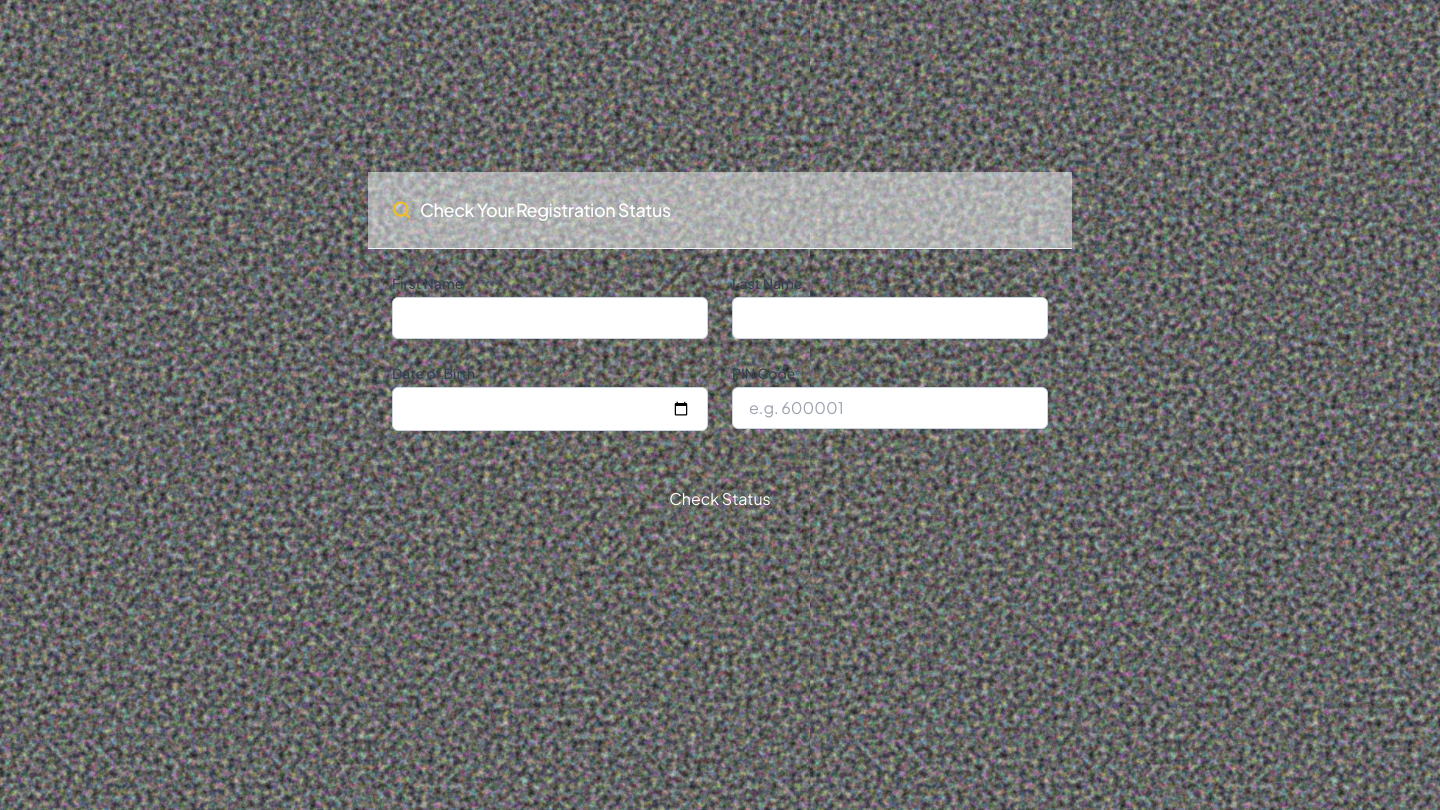
Registration Component › shows validation errors for empty fields
The width and height of the screenshot is (1440, 810).
Click the button "Check Status": (720, 499) [392,479,1048,519]
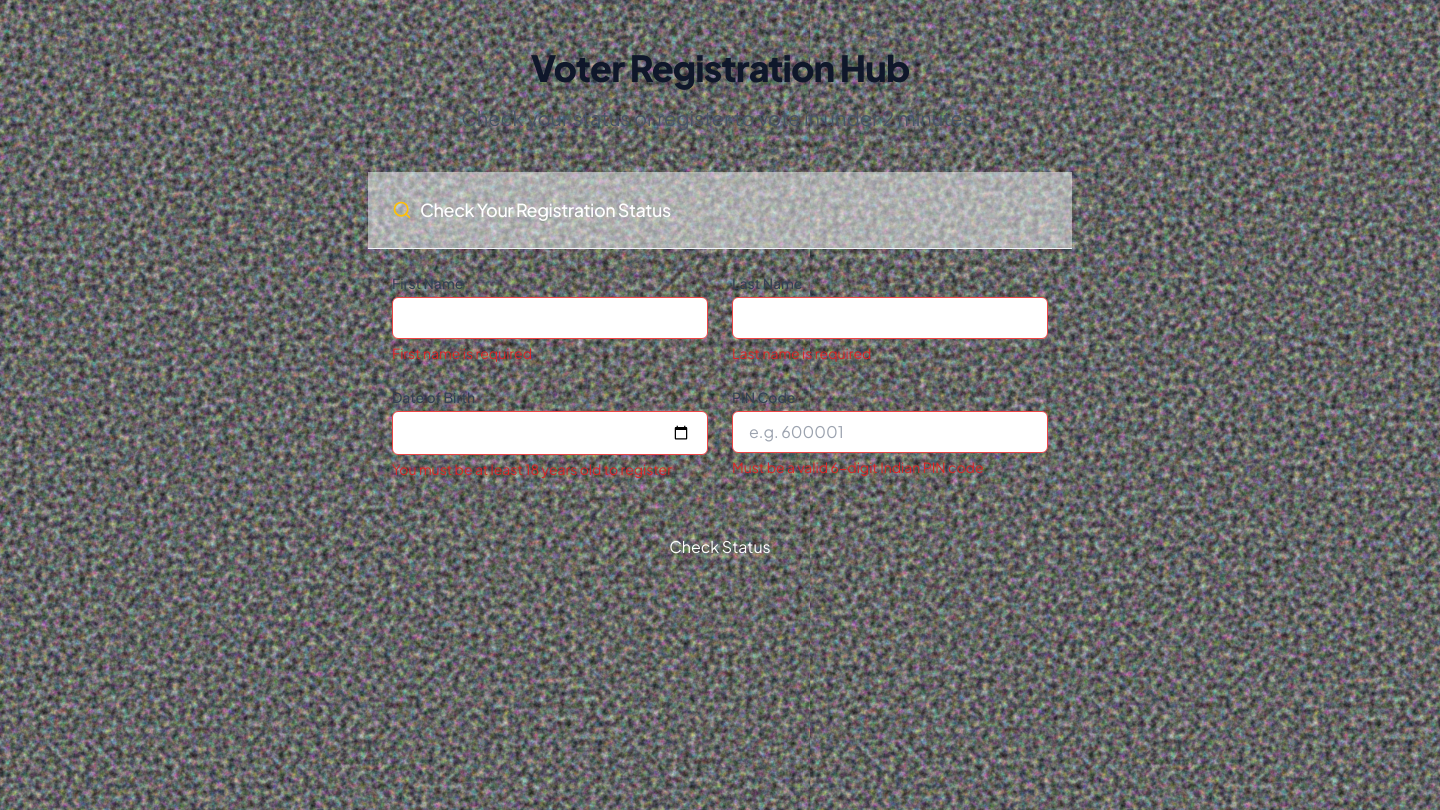
Check: the message "First name is required" is shown, box [392,344,532,362]
